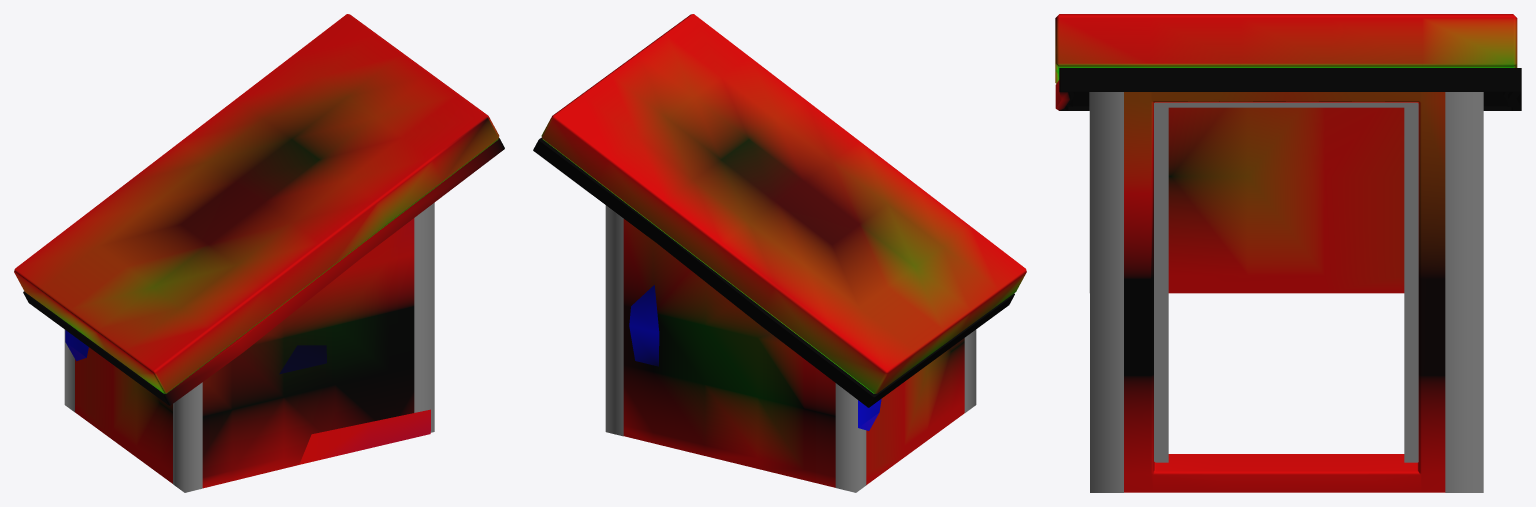
File: ExtraBuilding_B_Snaps004.FBX
3 views of the same model, side by side, from view 1: azimuth 30°, elevation 25°; view 2: azimuth 150°, elevation 25°; view 3: azimuth 270°, elevation 25° (orthographic). The views are drawn at different scales.
Parts seen in each view (by area): view 1: Geometry_ExtraBuilding_LOD00, Geometry_Decal_A_LOD00, Geometry_Decal_C_LOD00; view 2: Geometry_ExtraBuilding_LOD00, Geometry_Decal_A_LOD00, Geometry_Decal_C_LOD00; view 3: Geometry_ExtraBuilding_LOD00, Geometry_Decal_A_LOD00, Geometry_WindowsFrame_LOD00.
Boxes of the visible parts, <box> form: Geometry_ExtraBuilding_LOD00: <box>14,14,504,488</box>; Geometry_Decal_A_LOD00: <box>64,203,434,492</box>; Geometry_Decal_C_LOD00: <box>65,330,430,464</box>; Geometry_ExtraBuilding_LOD00: <box>533,14,1026,487</box>; Geometry_Decal_A_LOD00: <box>605,205,976,492</box>; Geometry_Decal_C_LOD00: <box>629,285,881,430</box>; Geometry_ExtraBuilding_LOD00: <box>1055,14,1521,492</box>; Geometry_Decal_A_LOD00: <box>1089,92,1483,492</box>; Geometry_WindowsFrame_LOD00: <box>1154,102,1418,462</box>.
Size of what is drawn, in the model's own units: 339 by 289 by 238.
